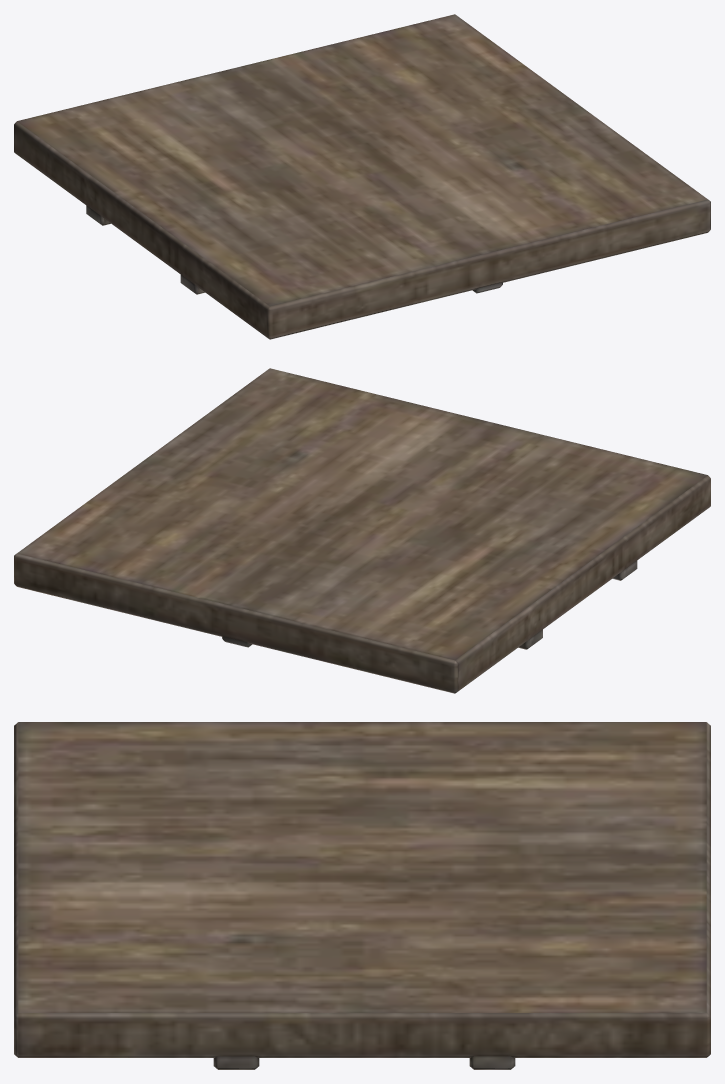
File: SM_Roof_Wood_fa954c.glb
3 views of the same model, one above another, from view 1: azimuth 30°, elevation 25°; view 2: azimuth 150°, elevation 25°; view 3: azimuth 270°, elevation 25° (orthographic). The views are drawn at different scales.
Size of the model in its own units: 4.01 by 0.3641 by 4.01.
1 material, 1 textured.
